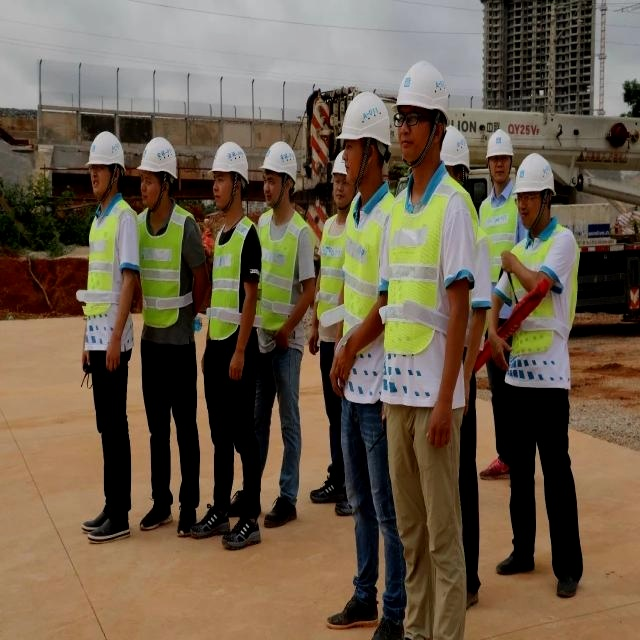Con_Casco: (515, 151, 553, 233), (139, 136, 178, 204), (212, 141, 250, 209), (261, 141, 298, 209)
Con_Chaleco: (385, 188, 474, 394), (140, 207, 201, 330), (81, 204, 138, 321), (260, 212, 311, 334), (209, 216, 257, 336), (315, 212, 349, 327)
